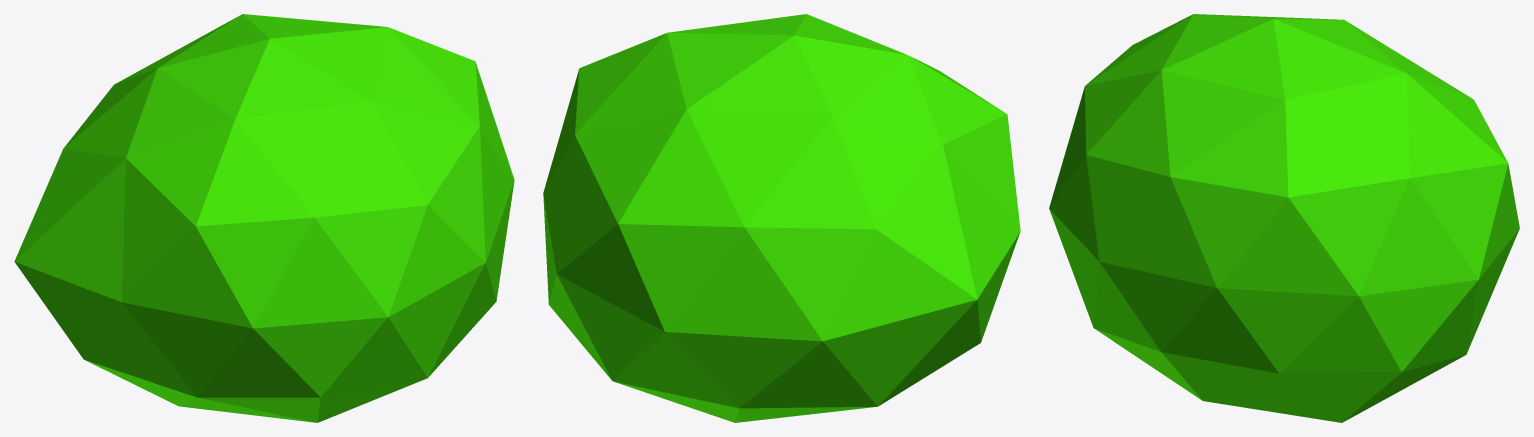
Rendered from bush4.fbx.
3 renders of one model, left to right at view 1: azimuth 30°, elevation 25°; view 2: azimuth 150°, elevation 25°; view 3: azimuth 270°, elevation 25°, orthographic. The views are drawn at different scales.
Visible parts, largest first — view 1: Icosphere.010; view 2: Icosphere.010; view 3: Icosphere.010.
Part boxes in pixels (box(x1,y1,x2,y2)): Icosphere.010: box(14, 14, 514, 422); Icosphere.010: box(543, 14, 1020, 422); Icosphere.010: box(1049, 14, 1519, 422).
Size of the model in its own units: 124 by 97.61 by 119.
